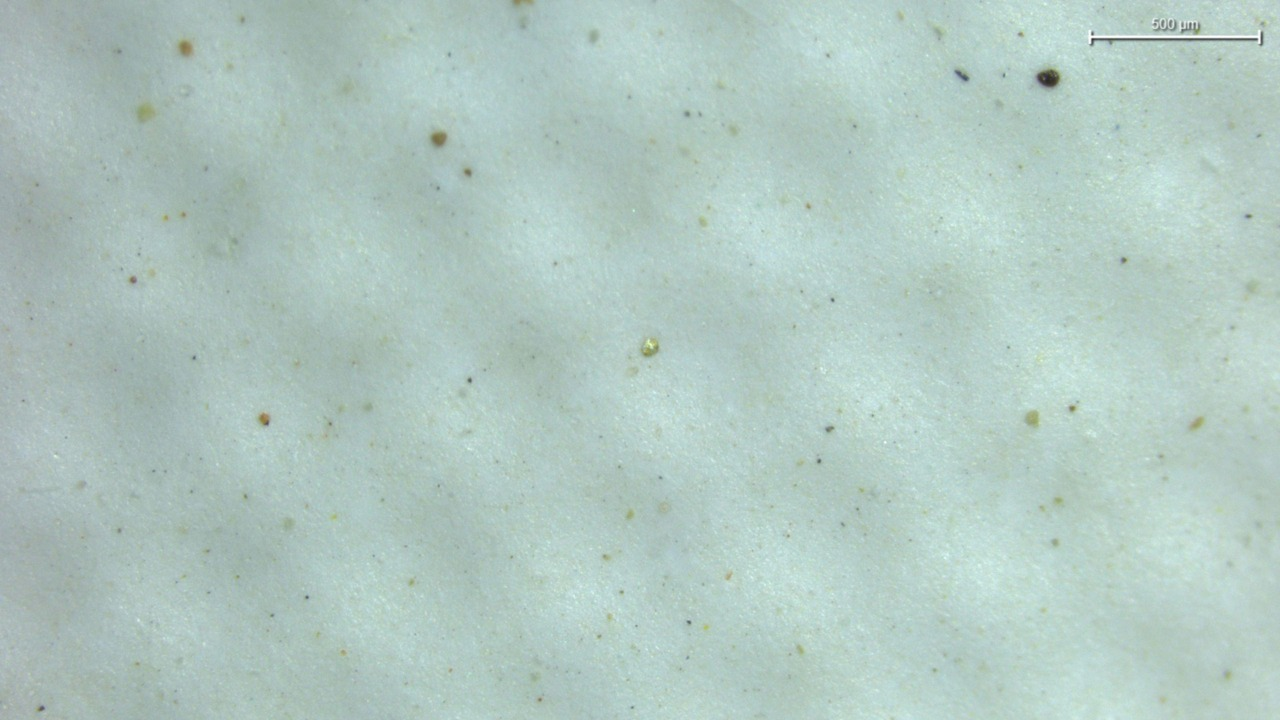microplastic_fragment: (641, 338, 659, 356)
